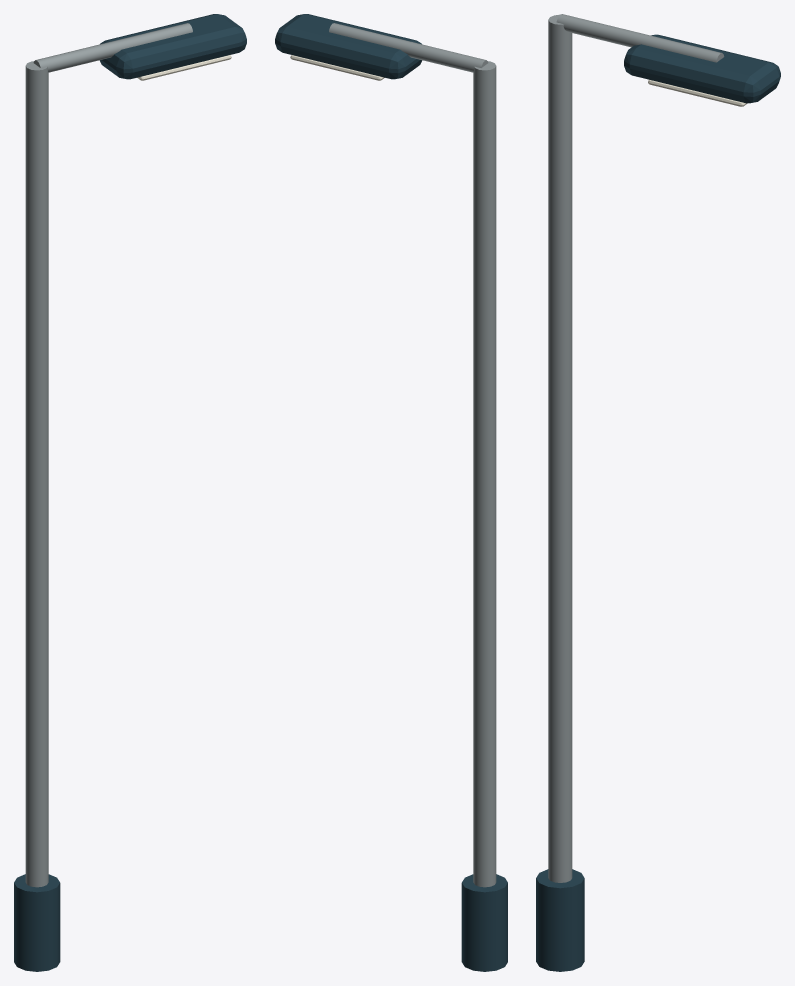
File: street_lamp.glb
3 views of the same model, side by side, from view 1: azimuth 30°, elevation 25°; view 2: azimuth 150°, elevation 25°; view 3: azimuth 330°, elevation 25° (orthographic). The views are drawn at different scales.
Parts seen in each view (by area): view 1: Weathered zinc metal, Navy powder coating; view 2: Weathered zinc metal, Navy powder coating; view 3: Weathered zinc metal, Navy powder coating.
Boxes of the visible parts, <box> form: Weathered zinc metal: <box>25,23,192,887</box>; Navy powder coating: <box>14,14,246,971</box>; Weathered zinc metal: <box>329,23,496,887</box>; Navy powder coating: <box>275,14,507,971</box>; Weathered zinc metal: <box>548,14,724,882</box>; Navy powder coating: <box>536,34,780,971</box>.
Bounding box in the file's own units: 1.15 × 4.52 × 0.27.
